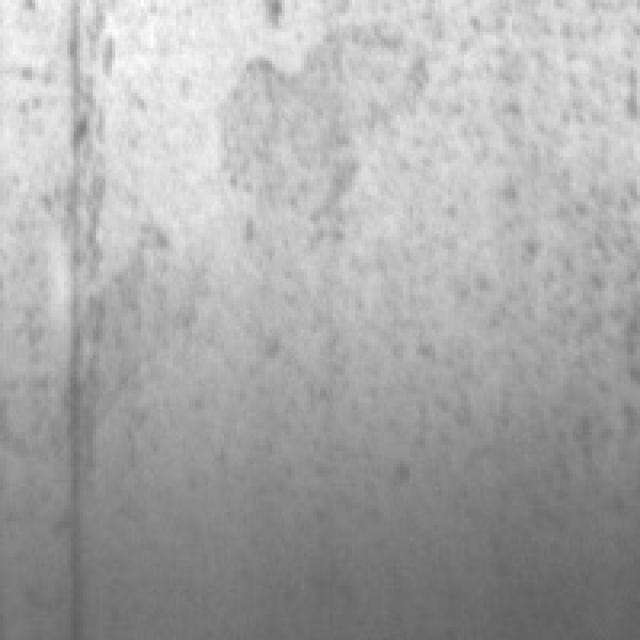inclusion: (29, 35, 118, 630)
pitted_surface: (163, 13, 637, 611)
